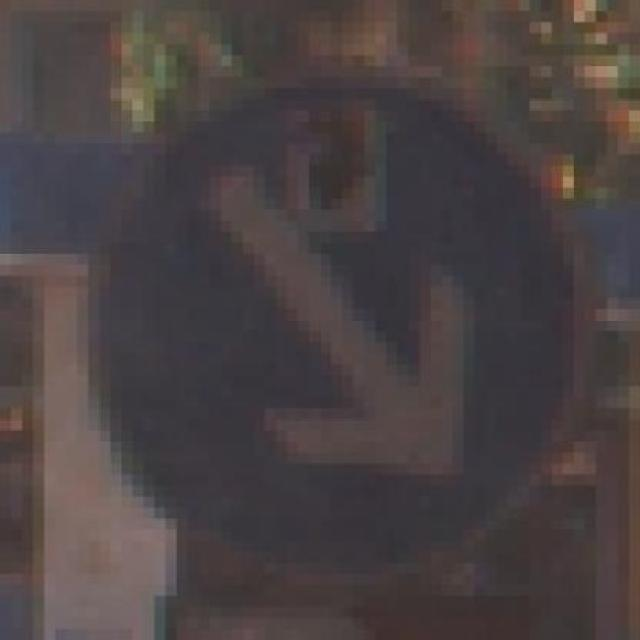Keep-Right: (54, 55, 586, 563)
